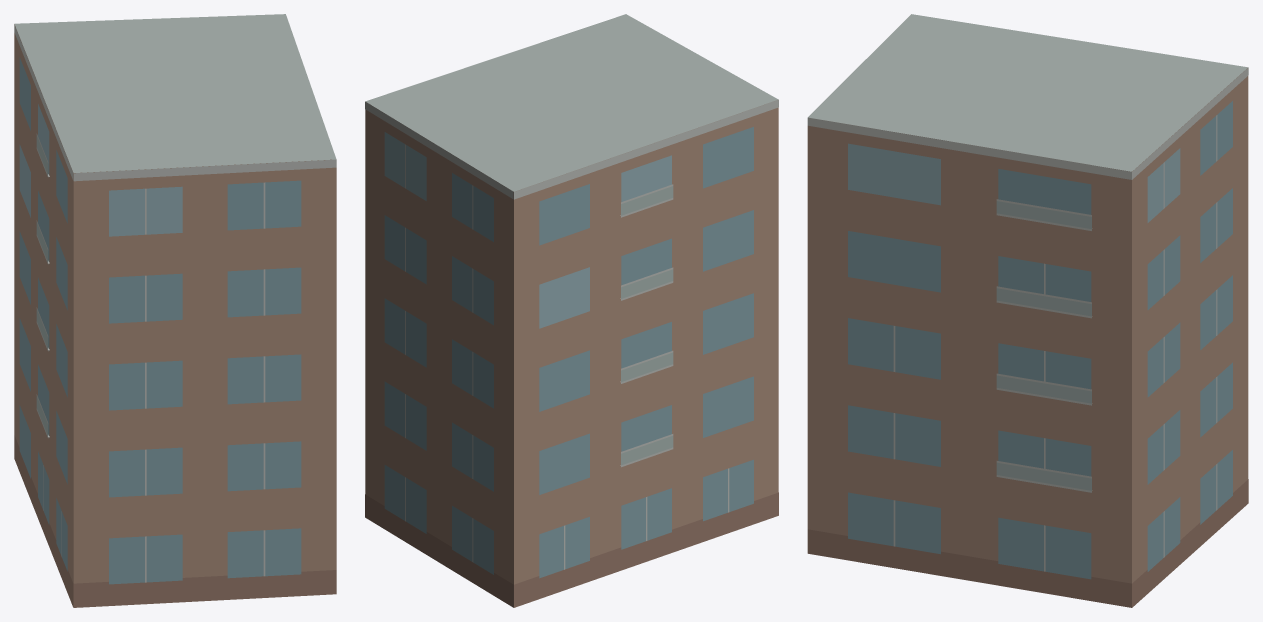
The model's file is survey-upis-32894806.glb.
3 views of the same model, side by side, from view 1: azimuth 30°, elevation 25°; view 2: azimuth 150°, elevation 25°; view 3: azimuth 270°, elevation 25° (orthographic). The views are drawn at different scales.
Visible parts, largest first — view 1: survey-upis-32894806.tmp; view 2: survey-upis-32894806.tmp; view 3: survey-upis-32894806.tmp.
Boxes of the visible parts, x1,y1,x2,y2 form: survey-upis-32894806.tmp: (14,14,336,607); survey-upis-32894806.tmp: (365,14,778,607); survey-upis-32894806.tmp: (807,14,1248,607).
Size of the model in its own units: 10.1 by 13 by 11.92.
